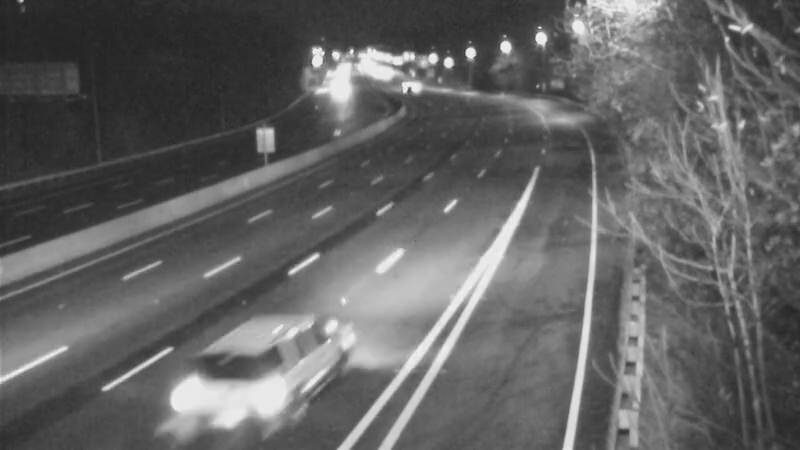vehicle: (181, 336, 291, 446), (382, 65, 432, 115), (313, 67, 363, 117)
